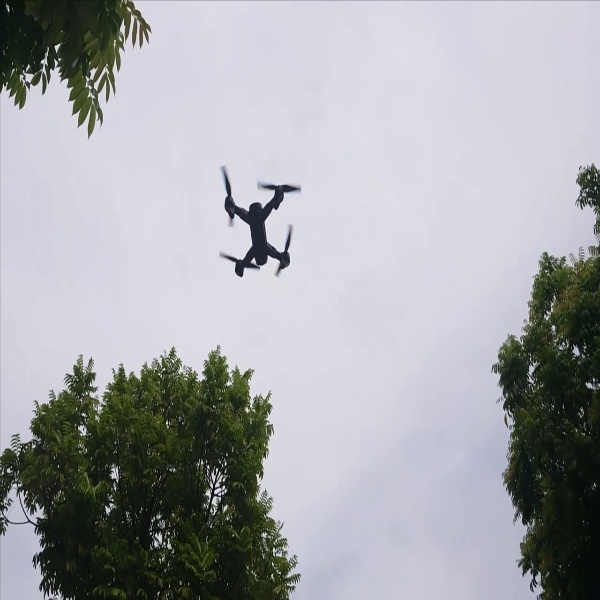drone: (204, 159, 300, 280)
